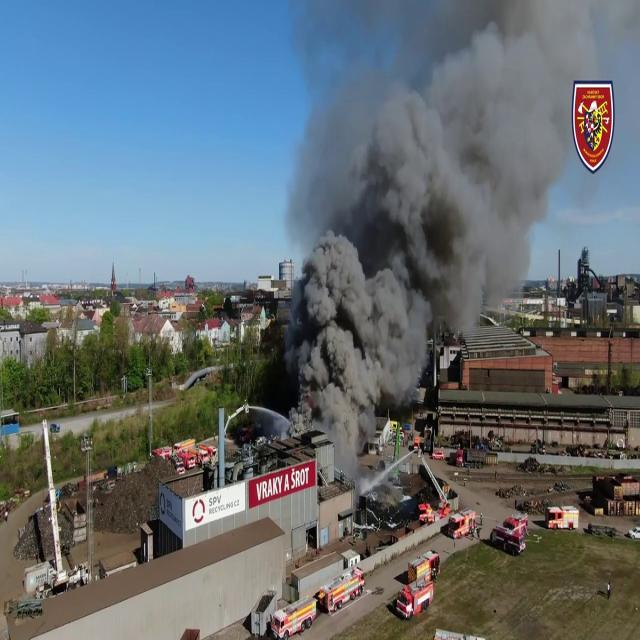Smoke: (256, 1, 588, 427), (435, 0, 640, 300)
